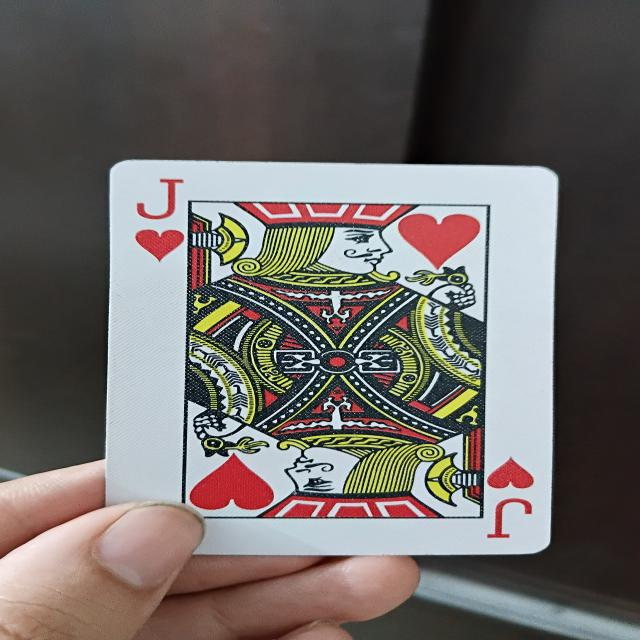JH: (117, 152, 549, 557)
